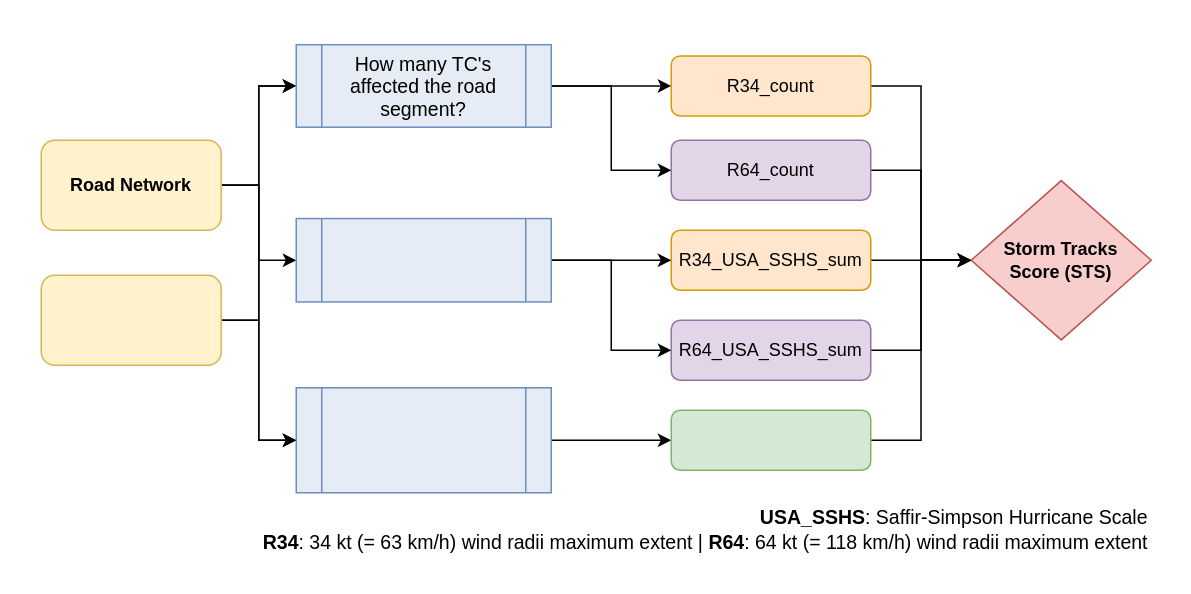
The diagram is 1191 pixels wide and 594 high, and some of its shapes have lost their labels. Here are the shapes that lost their labels. From the top down, the box of each, then its label:
(295, 217, 551, 302): How intense were the TC's that affected the road s egment?
(40, 274, 221, 365): Storm Tracks
(295, 386, 551, 493): What was the average distance between the center of the TC and the road segment?
(670, 409, 871, 470): R34_mean_distance_m
